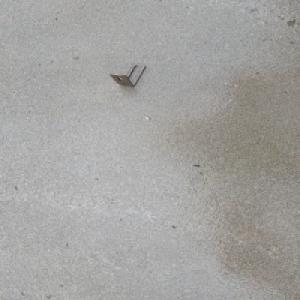MetalPart: (108, 62, 147, 87)
